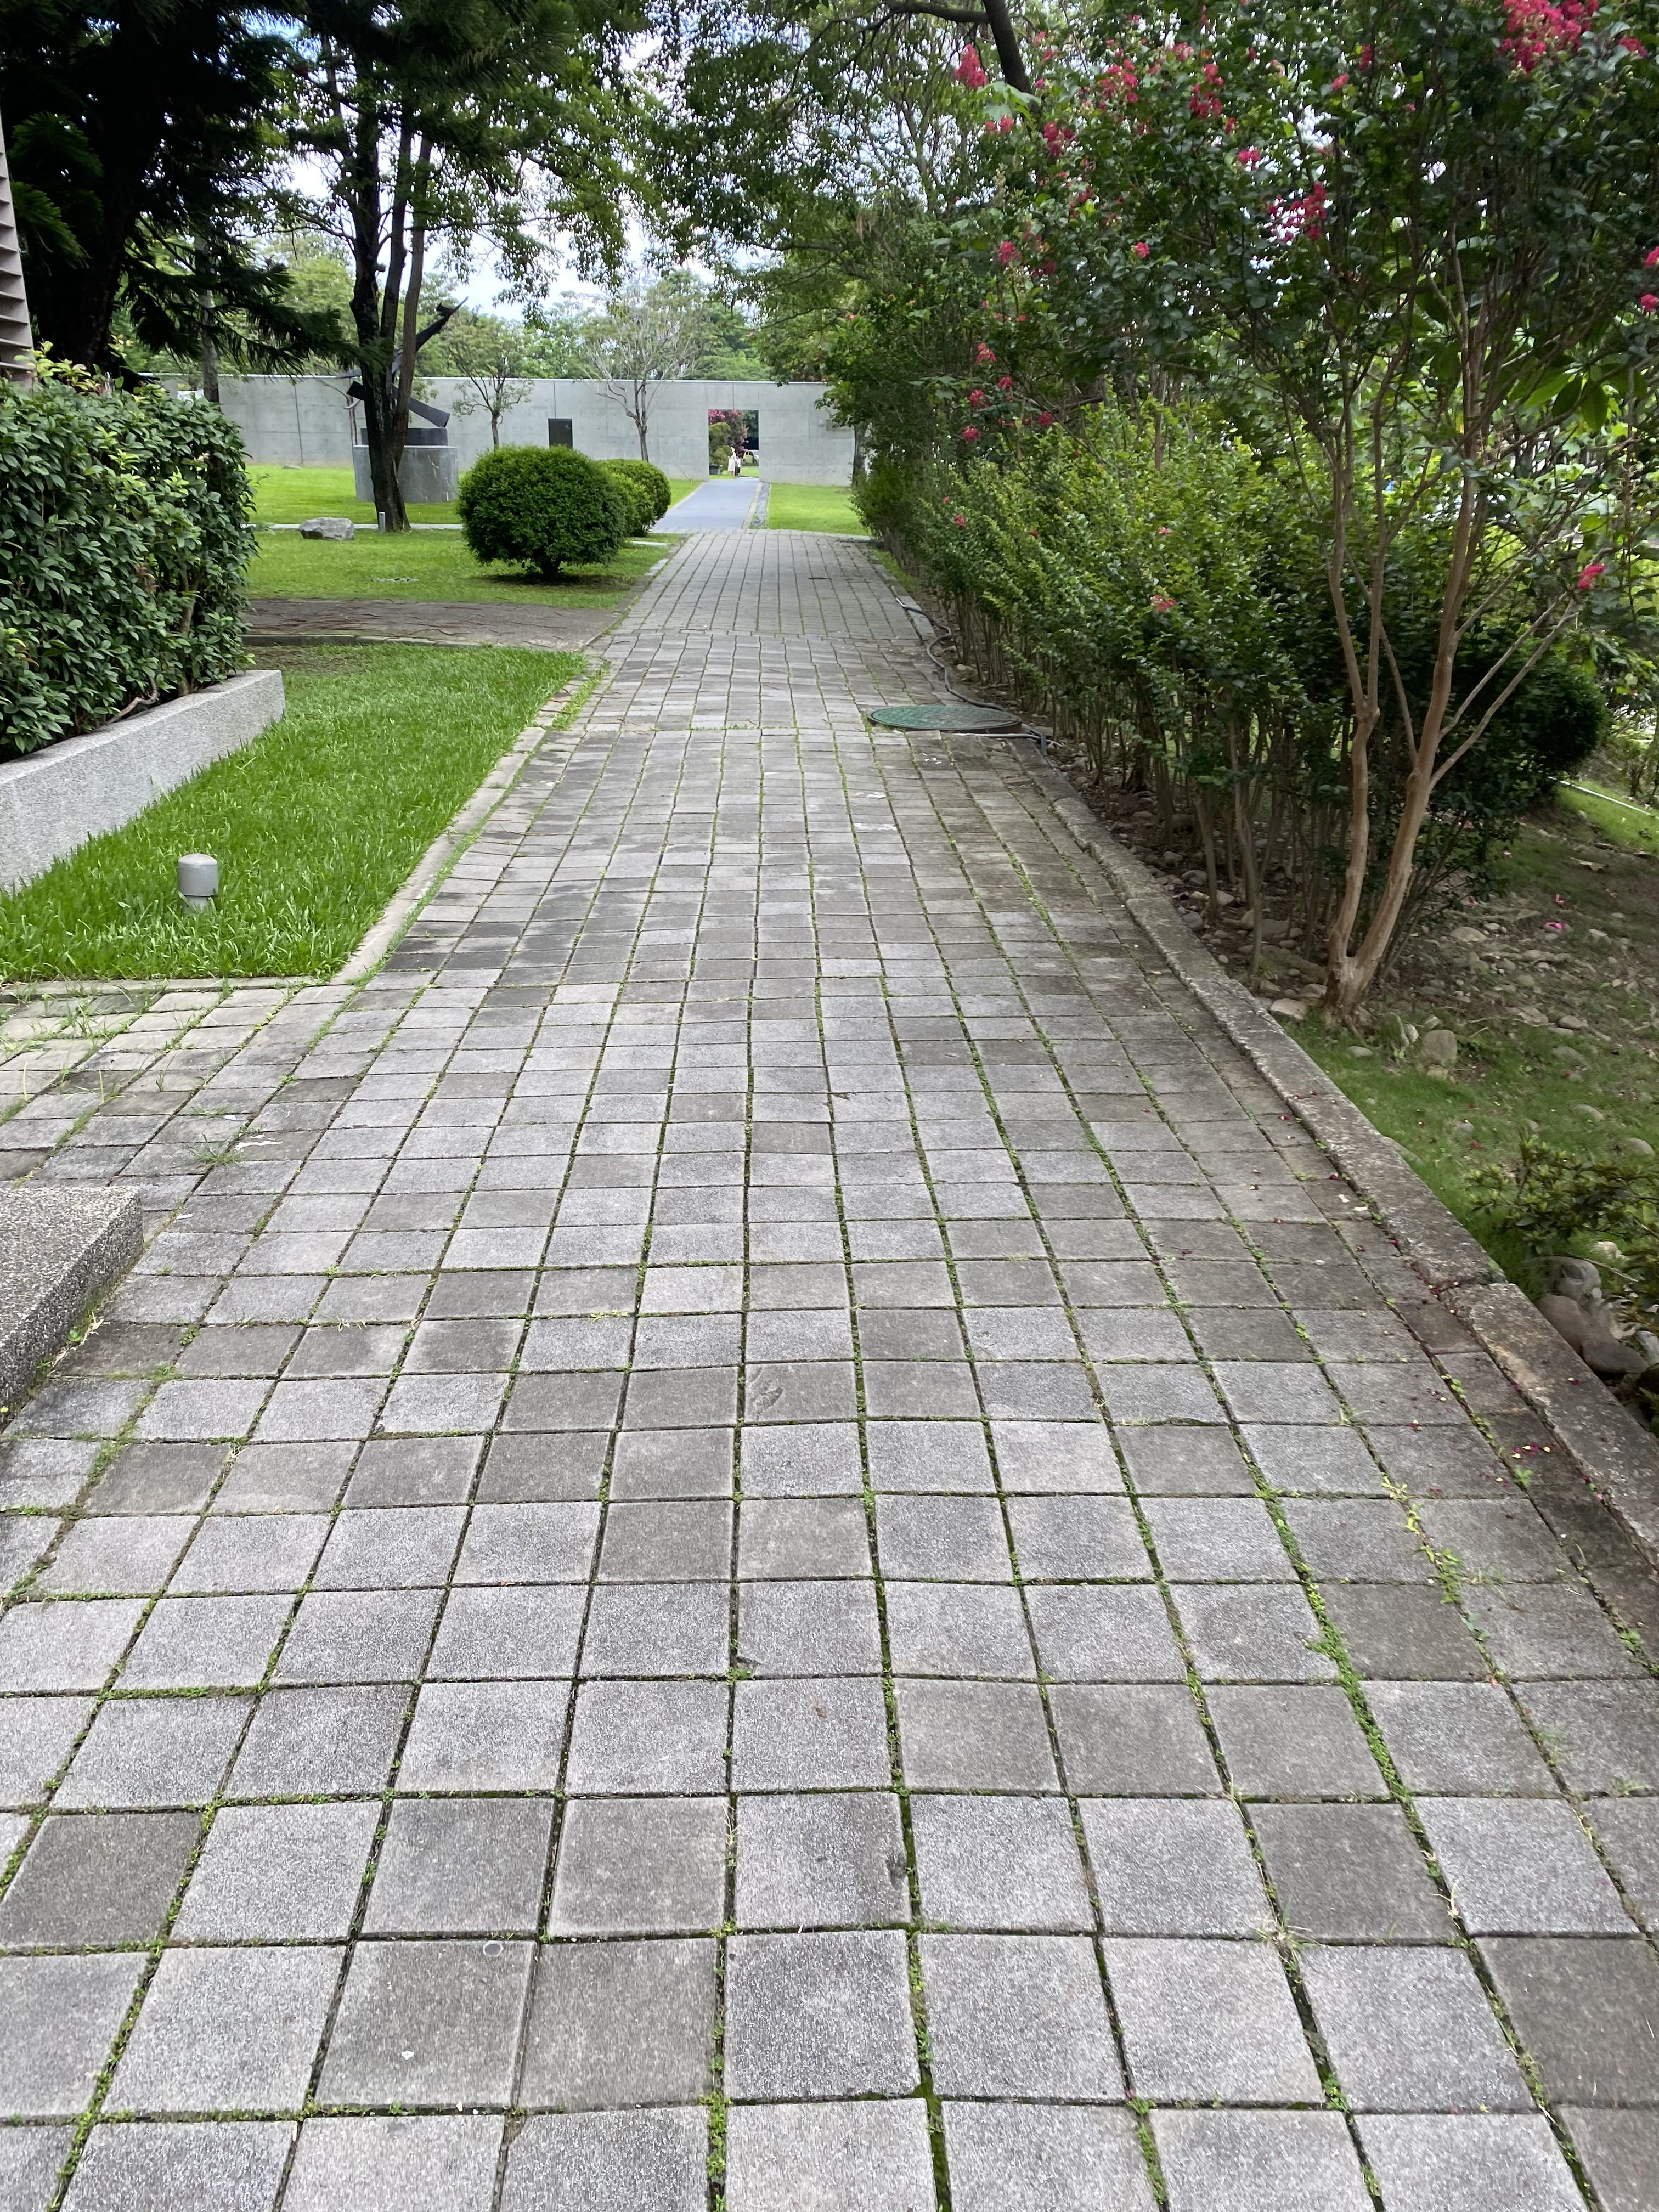0: (0, 637, 704, 2212)
sidewalk: (627, 517, 1659, 2212)
